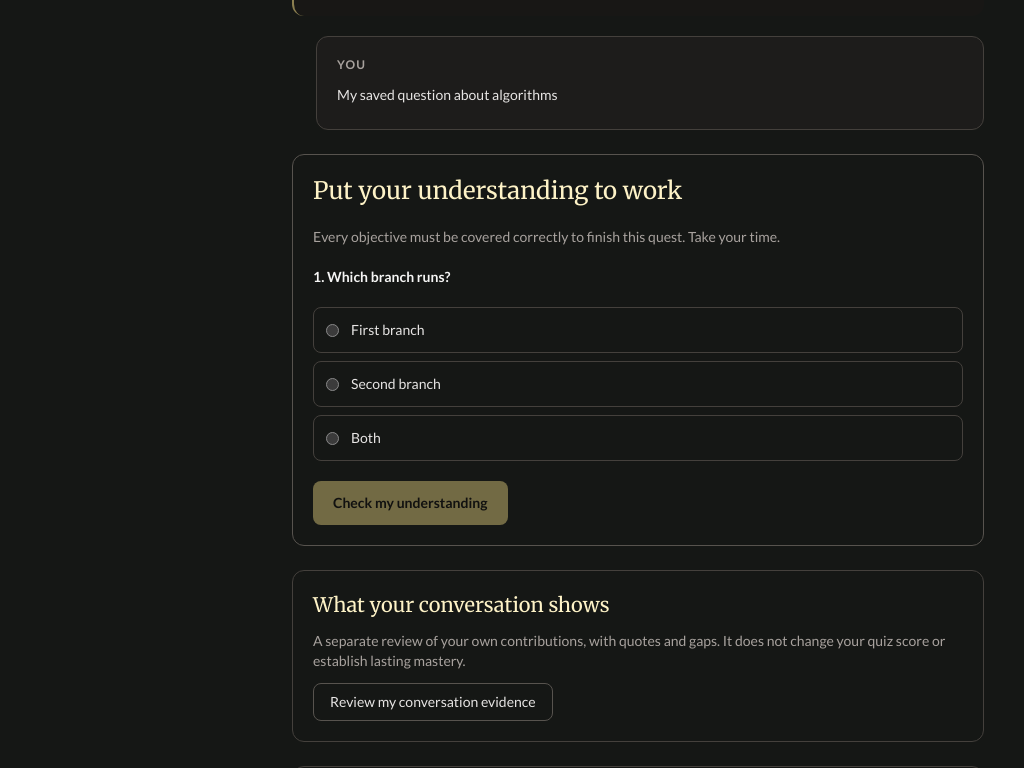
Test case: restores saved context and pending quiz on reload, and submits answers with revision identity
(page scrolled)
Expected: the text "My saved question about algorithms" is shown, [337,86,558,103]
Expected: the button "Check my understanding" is disabled, [313,481,508,525]
Click the radio button labelled "Second branch" at point(332, 384), box [326,378,339,391]
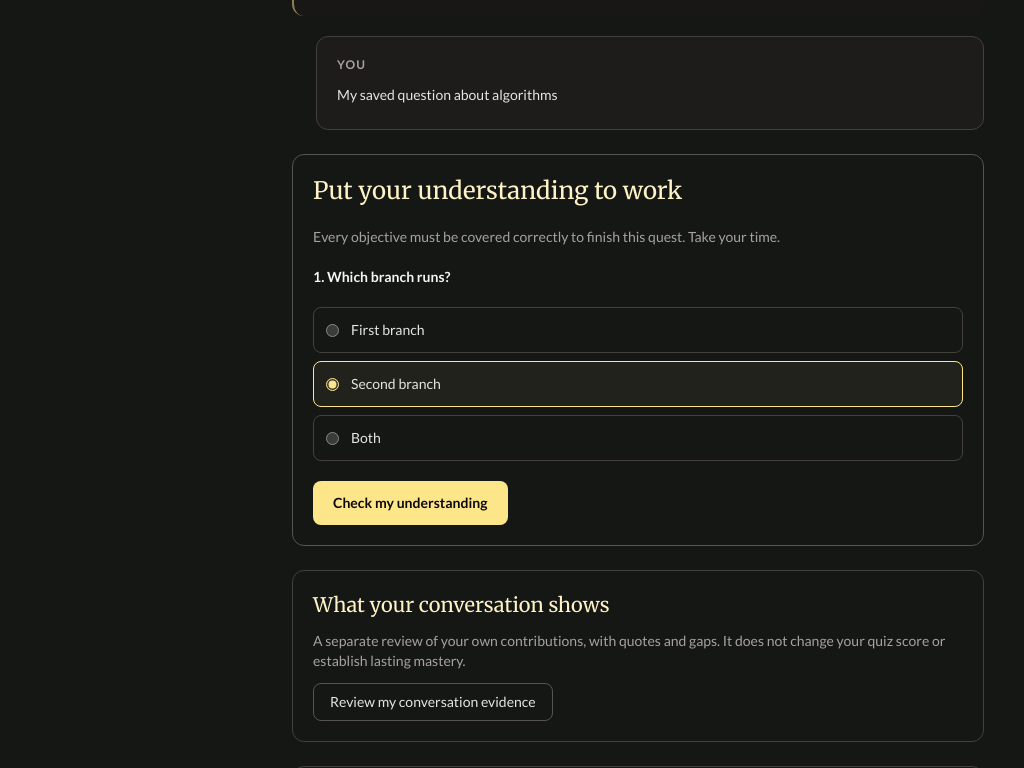
Click the button "Check my understanding" at point(410, 503), box [313,481,508,525]
(page scrolled)
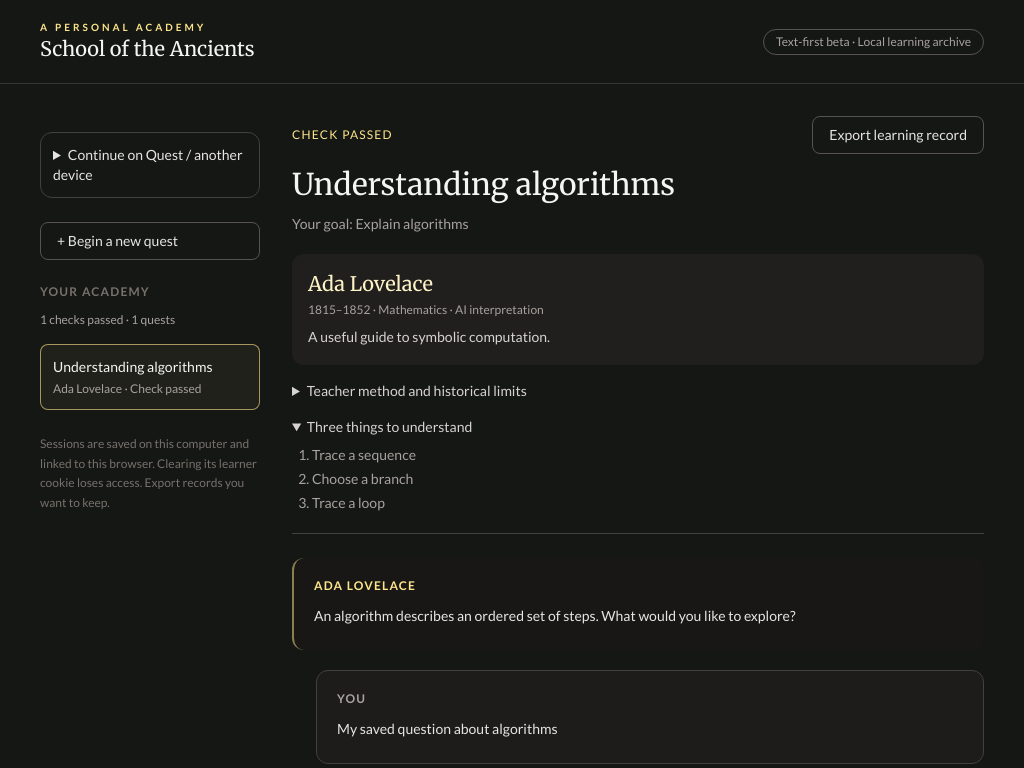
Result: the text "Check passed" is shown at [292,127,393,143]
